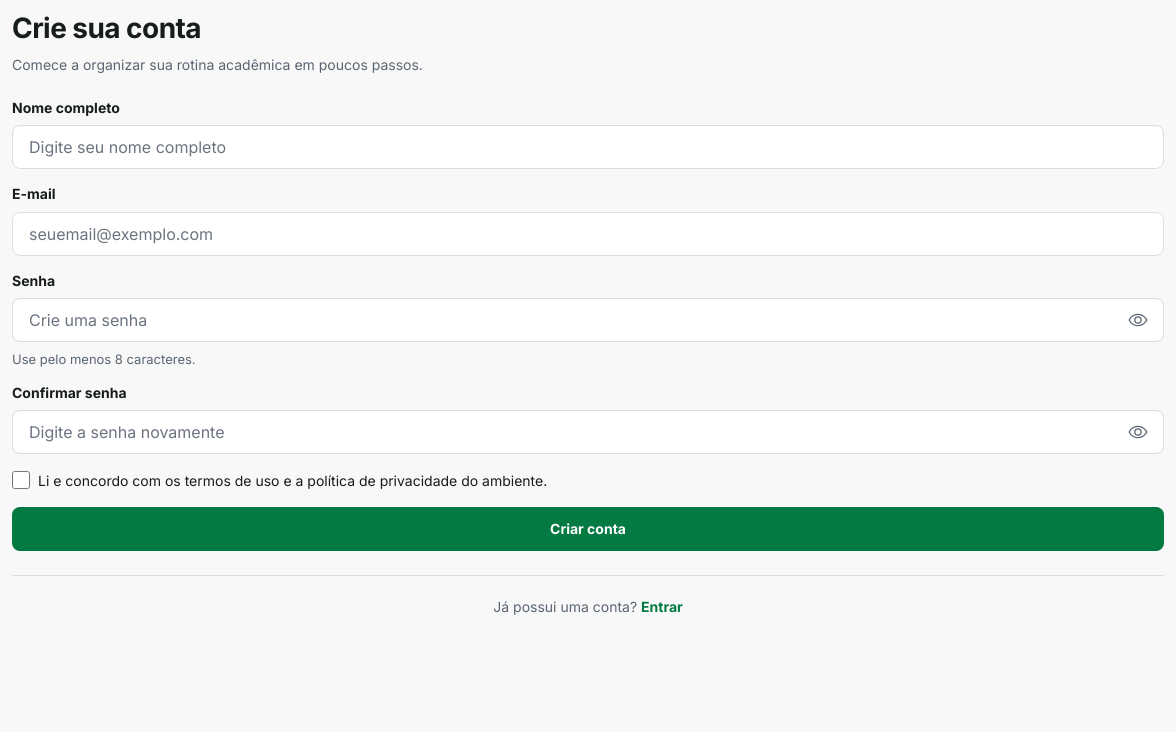
Scenario: RegisterForm › valida senhas não coincidentes
The width and height of the screenshot is (1176, 732).
Type "Lucas Silva" into the field labelled "Nome completo" at (588, 148), box left=12, top=126, right=1164, bottom=170
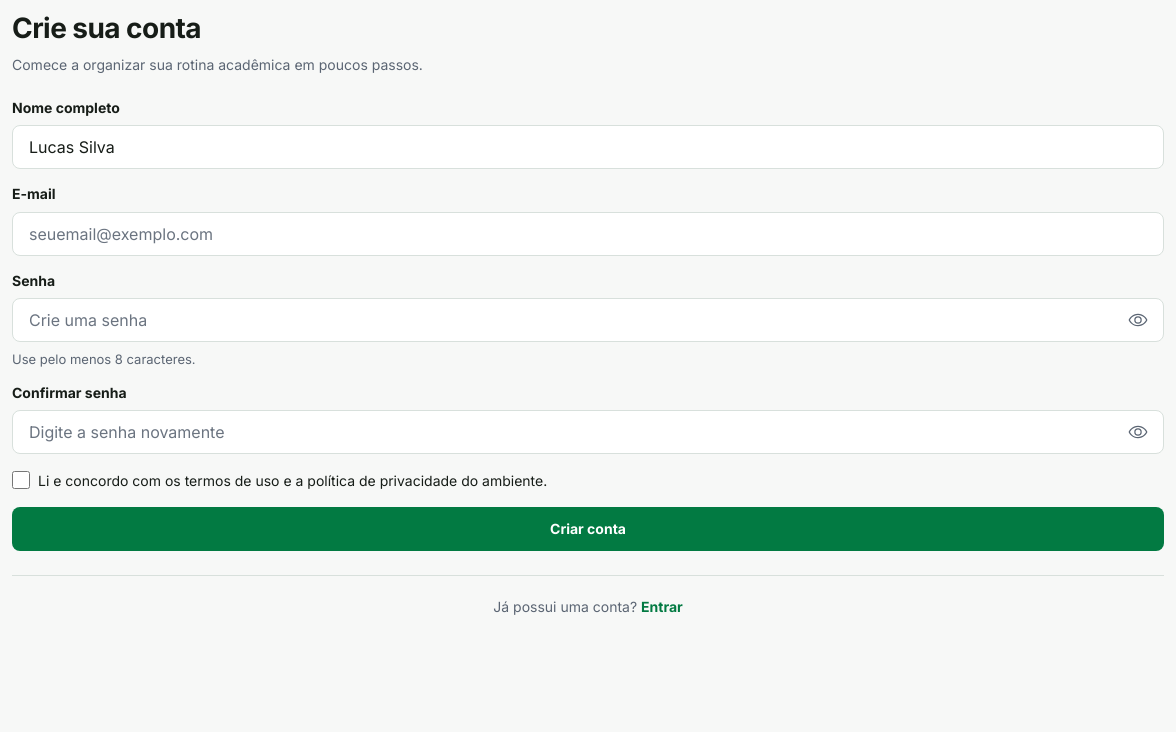
Type "lucas@exemplo.com" into the field labelled "E-mail" at (588, 234), box left=12, top=212, right=1164, bottom=256
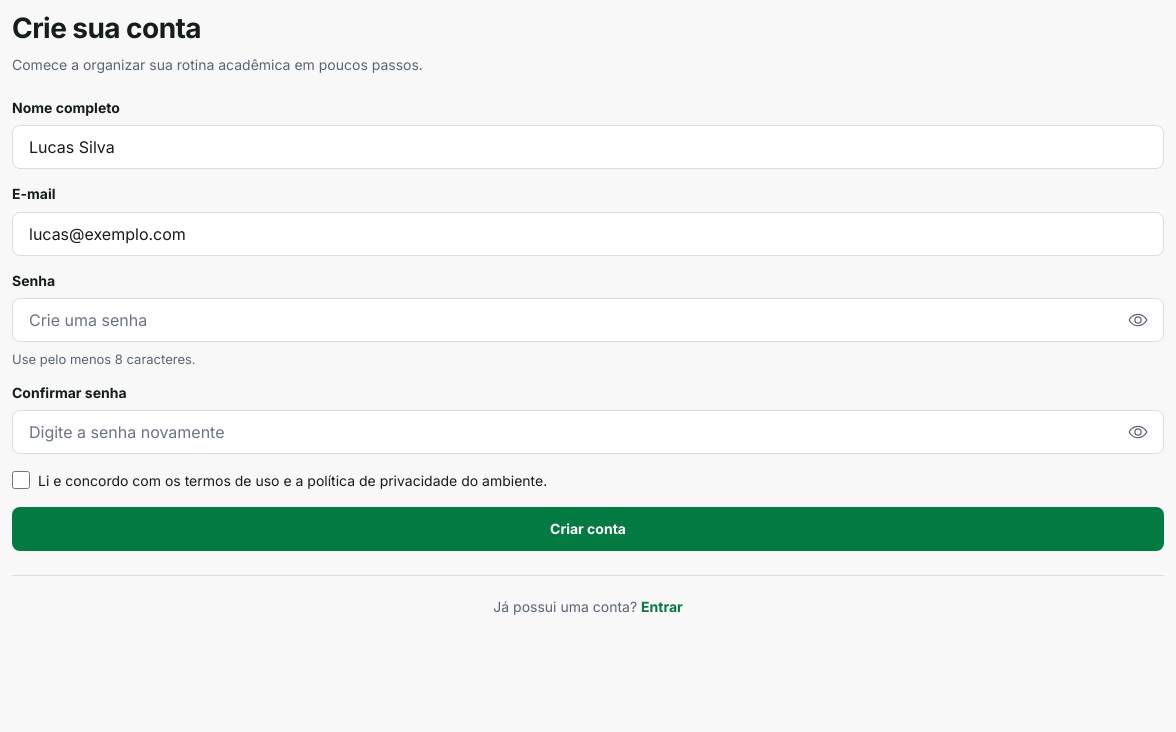
Type "senha1234" into the password field labelled "Senha" at (588, 320), box left=12, top=298, right=1164, bottom=342
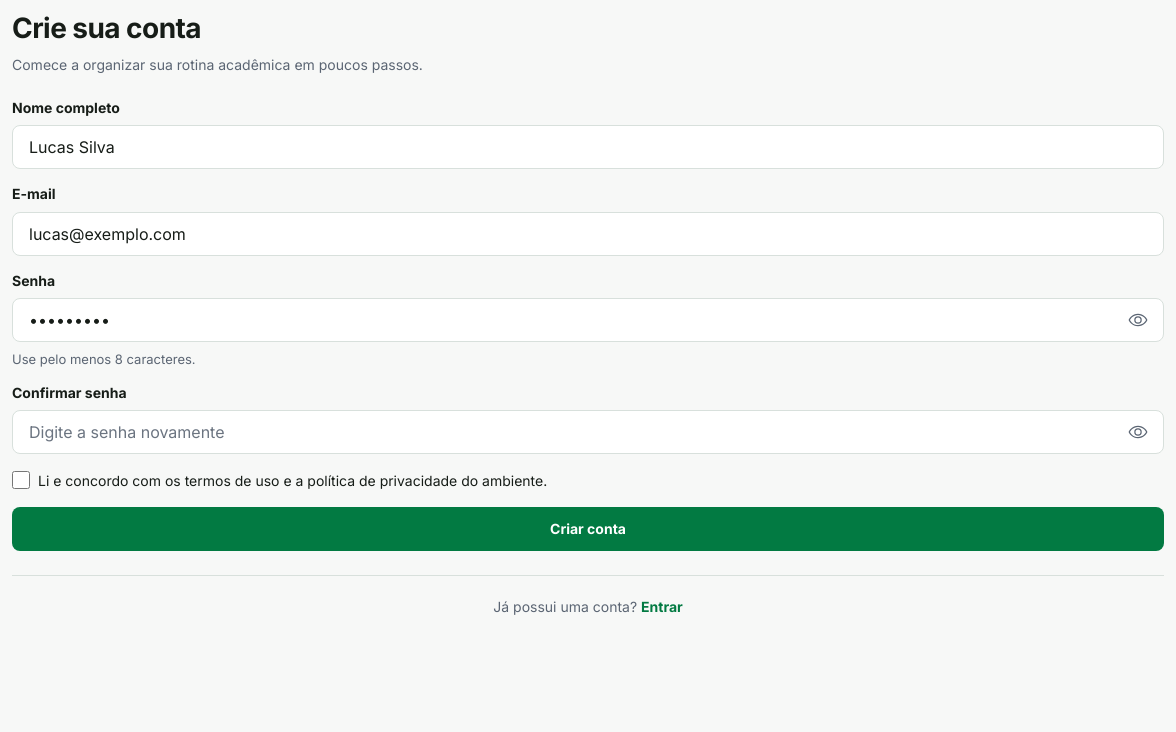
Type "senha5678" into the password field labelled "Confirmar senha" at (588, 432), box left=12, top=410, right=1164, bottom=454
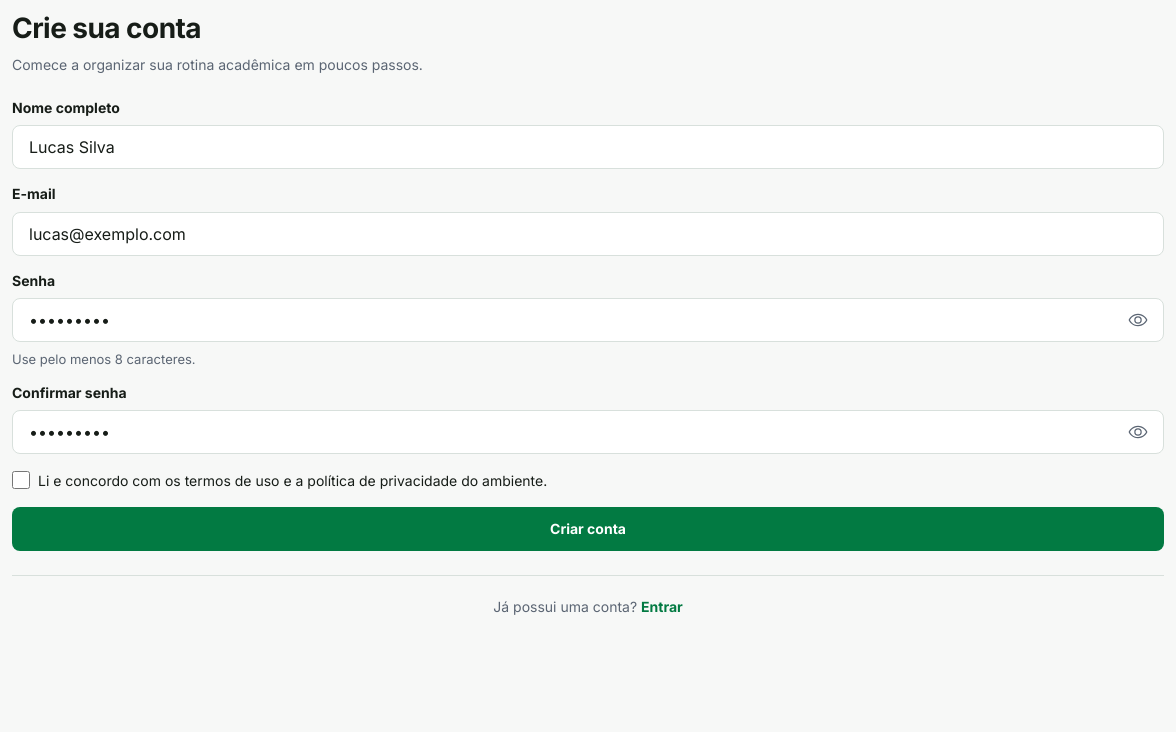
Click the button "Criar conta" at (588, 529), box left=12, top=507, right=1164, bottom=551
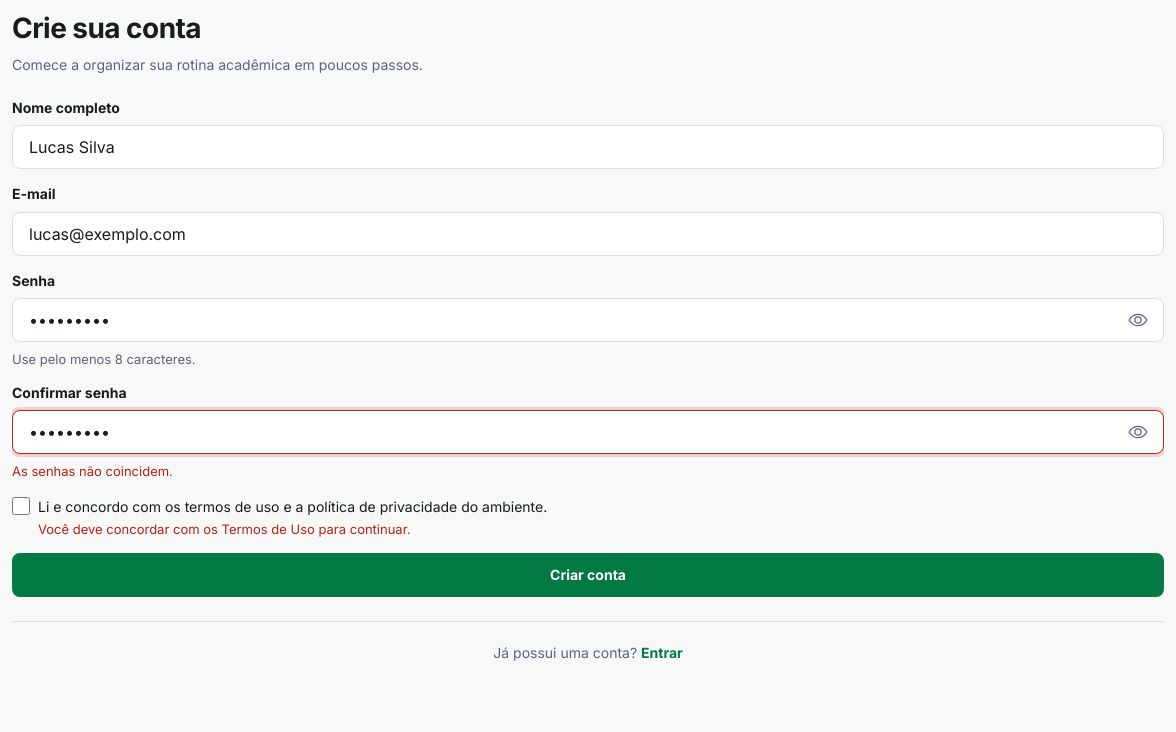
Expected: the text "As senhas não coincidem." is shown, left=12, top=463, right=173, bottom=479
